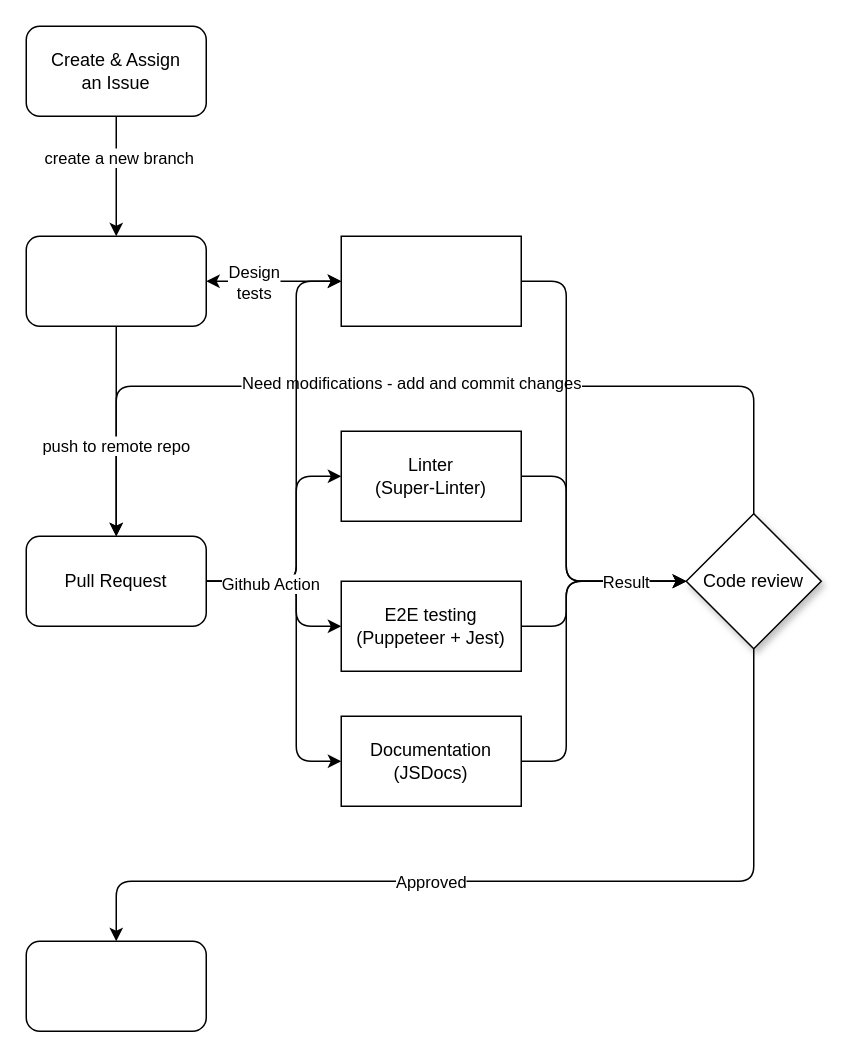
The diagram is 857 pixels wide and 1058 high, and some of its shapes have lost their labels. The centre of each missing label's shape, as x and y in pixels:
Code Development: the point at 115,280
Merge to main: the point at 115,985
Unit Tests (Jest): the point at 430,280
